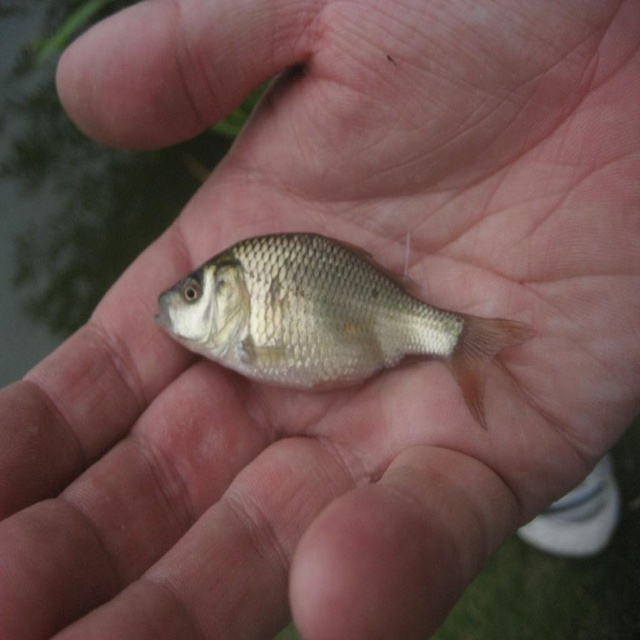Fish: (147, 227, 539, 411)
